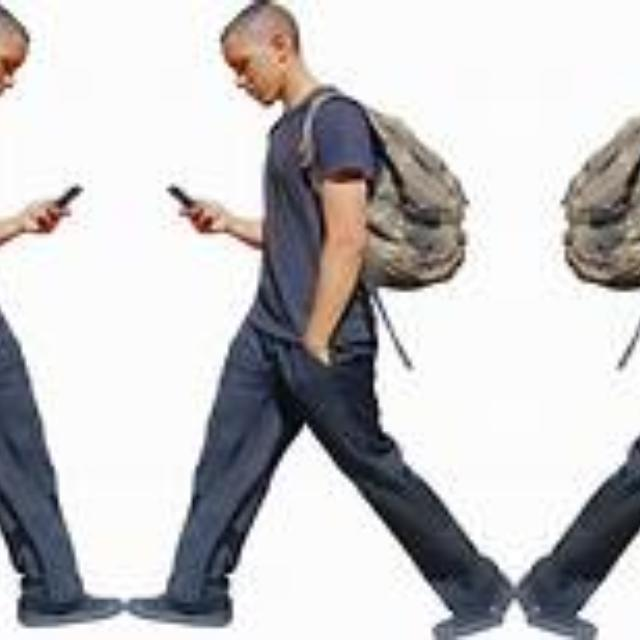person: (145, 0, 515, 638), (515, 0, 640, 638), (0, 0, 103, 638)
